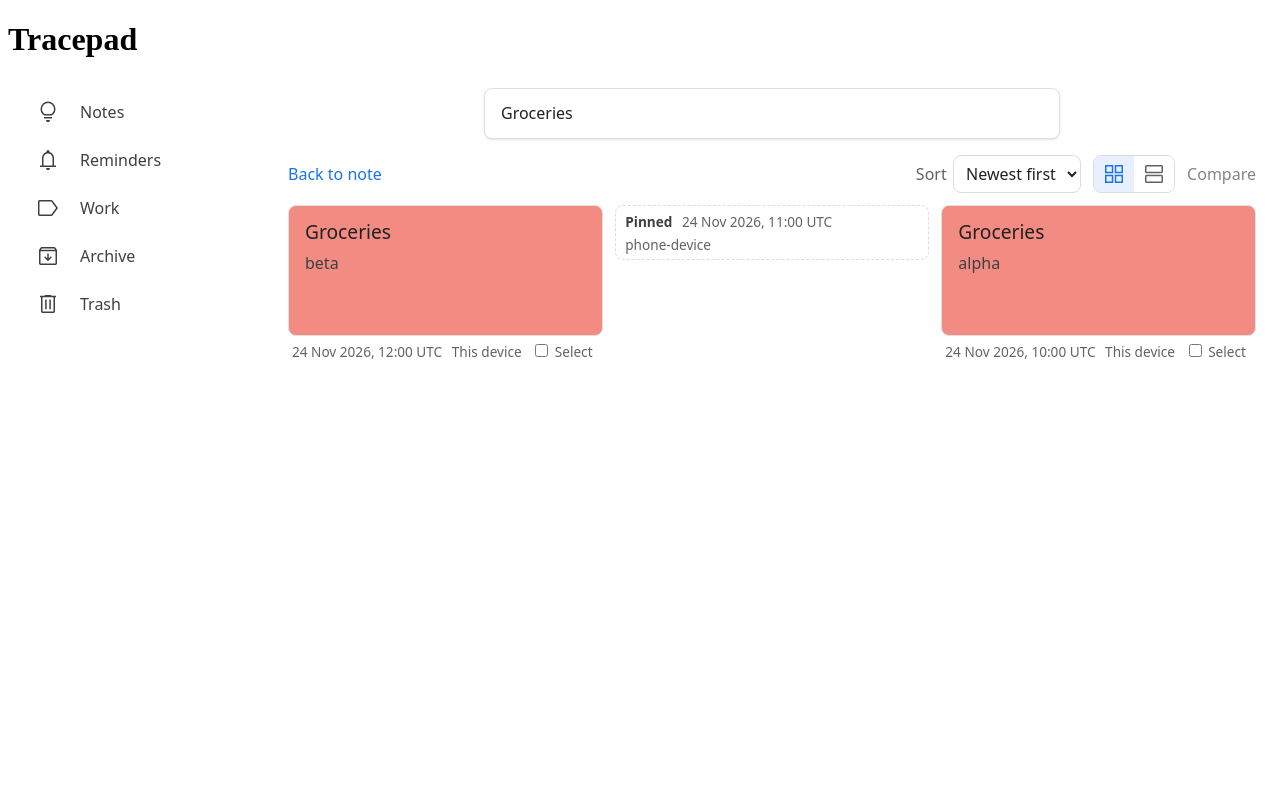
Test: history page › opens a version by clicking its card, as plain text in the note modal, then goes back
Click the button with aria-label "Groceries, alpha".
click(1001, 232)  # box [941,205,1256,336]
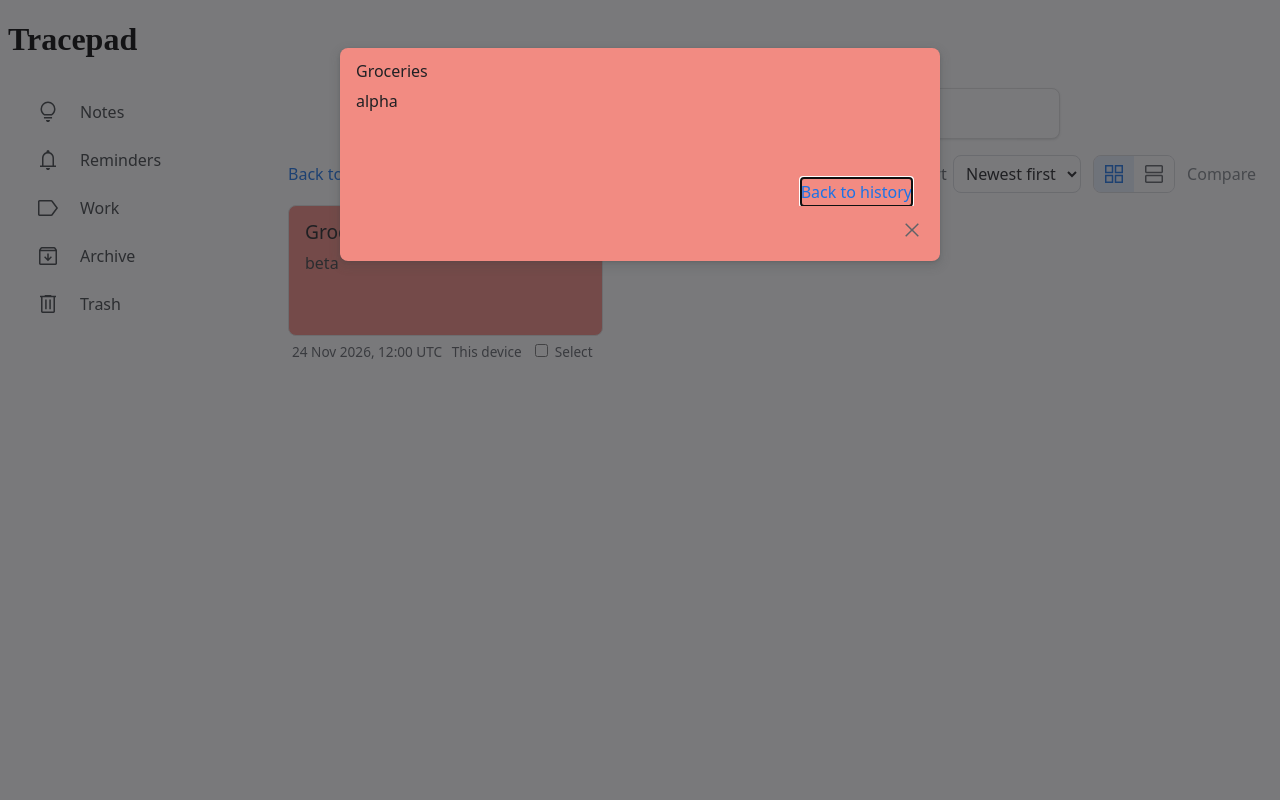
Expected: the text "Groceries" is shown, [356,60,428,82]
Expected: the text "alpha" is shown, [356,90,398,112]
Click the button "Back to history".
click(856, 192)  # box [801,178,912,206]
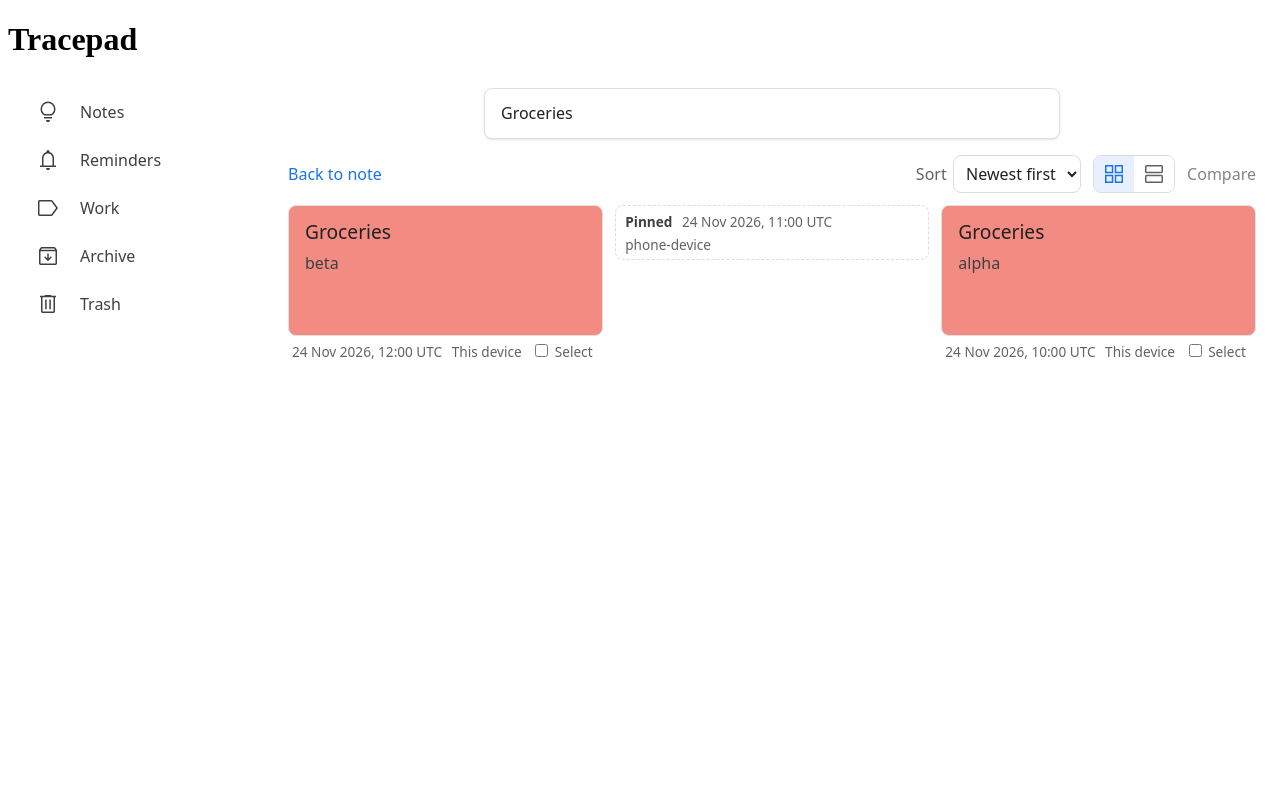
Expected: the heading "Groceries" is shown, [484,88,1060,139]
Expected: the element "Old version" is gone
Expected: the dialog is gone
